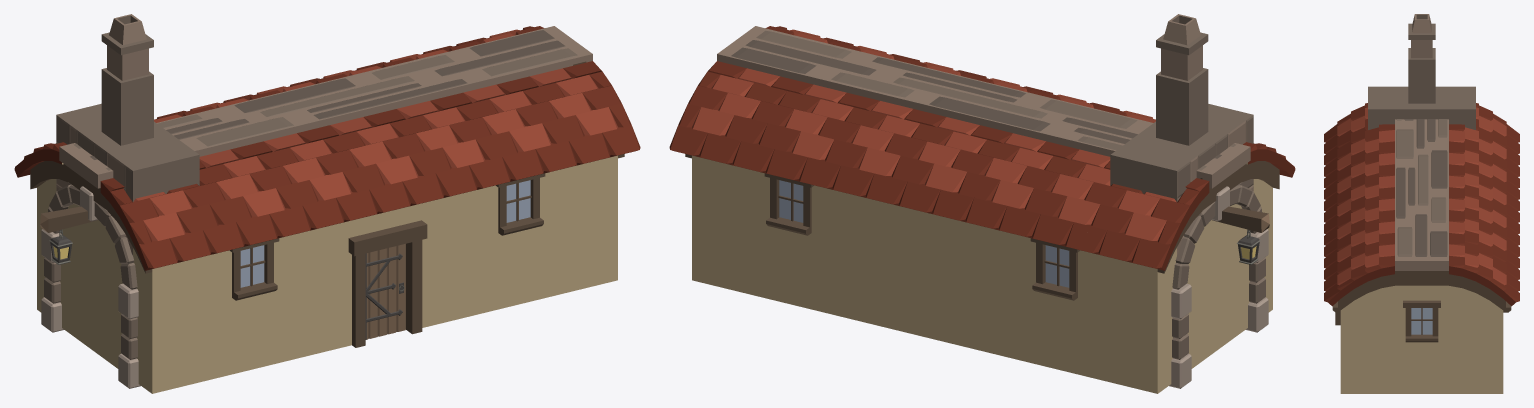
The model's file is WoodVillageHouseThree.fbx.
3 renders of one model, left to right at view 1: azimuth 30°, elevation 25°; view 2: azimuth 150°, elevation 25°; view 3: azimuth 270°, elevation 25°, orthographic. The views are drawn at different scales.
Visible parts, largest first — view 1: mergedBlocks; view 2: mergedBlocks; view 3: mergedBlocks.
Boxes of the visible parts, x1=… form: mergedBlocks: x1=14, y1=14, x2=640, y2=393; mergedBlocks: x1=669, y1=14, x2=1295, y2=393; mergedBlocks: x1=1324, y1=14, x2=1519, y2=393.
Bounding box in the file's own units: 80.19 × 47 × 36.19.
